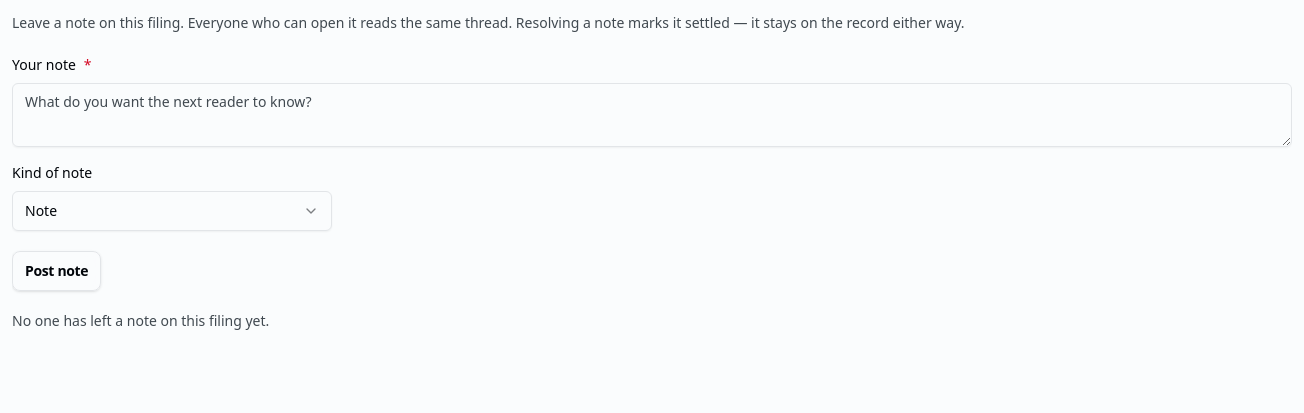
Test: SubjectCommentsBody › will not send an empty note
The image size is (1304, 413).
Expected: the text "No one has left a note on this filing yet." is shown, [12,311,269,330]
Click the button "Post note" at [57, 271], box [12,251,101,291]
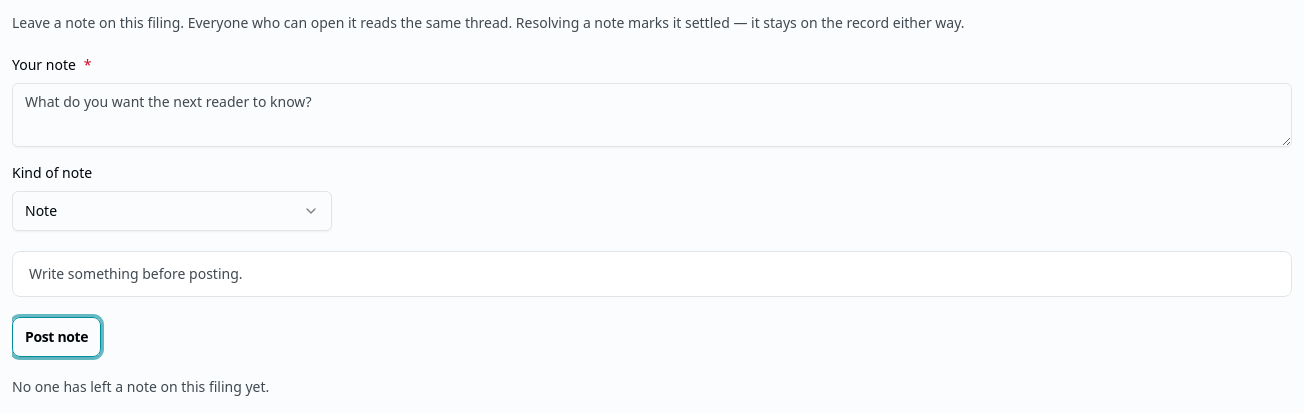
Expected: the text "Write something before posting." is shown, [29,264,242,283]
